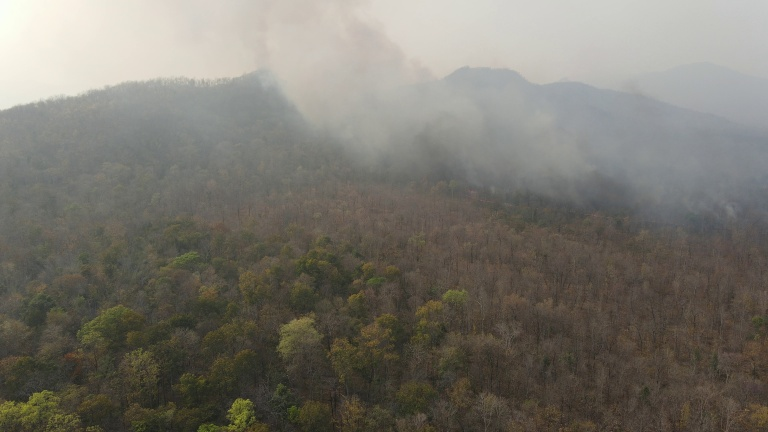smoke: (202, 1, 599, 195), (602, 61, 768, 215), (256, 30, 272, 91)
